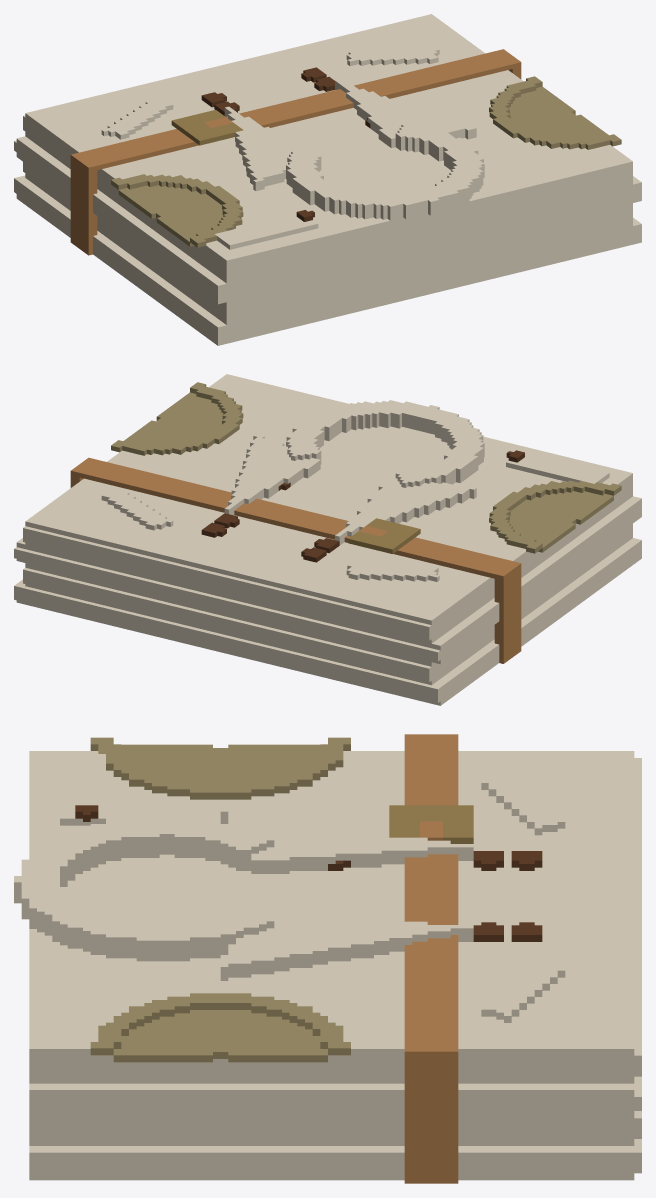
The model's file is sleeveless_trenchcoat_faux_fur.glb.
3 renders of one model, top to bottom at view 1: azimuth 30°, elevation 25°; view 2: azimuth 150°, elevation 25°; view 3: azimuth 270°, elevation 25°, orthographic. The views are drawn at different scales.
Parts seen in each view (by area): view 1: sleeveless_trenchcoat_faux_fur:compound; view 2: sleeveless_trenchcoat_faux_fur:compound; view 3: sleeveless_trenchcoat_faux_fur:compound.
Boxes of the visible parts, x1=… form: sleeveless_trenchcoat_faux_fur:compound: x1=14, y1=14, x2=641, y2=345; sleeveless_trenchcoat_faux_fur:compound: x1=14, y1=374, x2=641, y2=705; sleeveless_trenchcoat_faux_fur:compound: x1=14, y1=734, x2=641, y2=1183.
Bounding box in the file's own units: 0.392 × 0.084 × 0.328.
